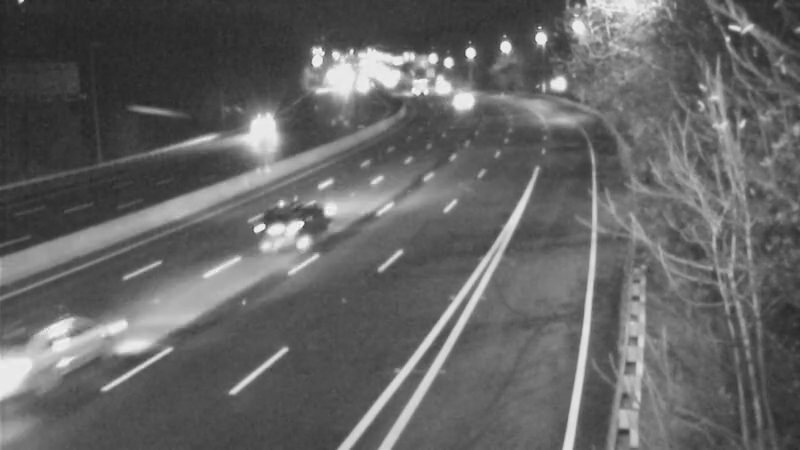vehicle: (1, 310, 98, 420), (248, 187, 328, 267), (394, 63, 444, 113), (416, 62, 466, 112), (441, 73, 491, 123), (237, 110, 287, 160)
